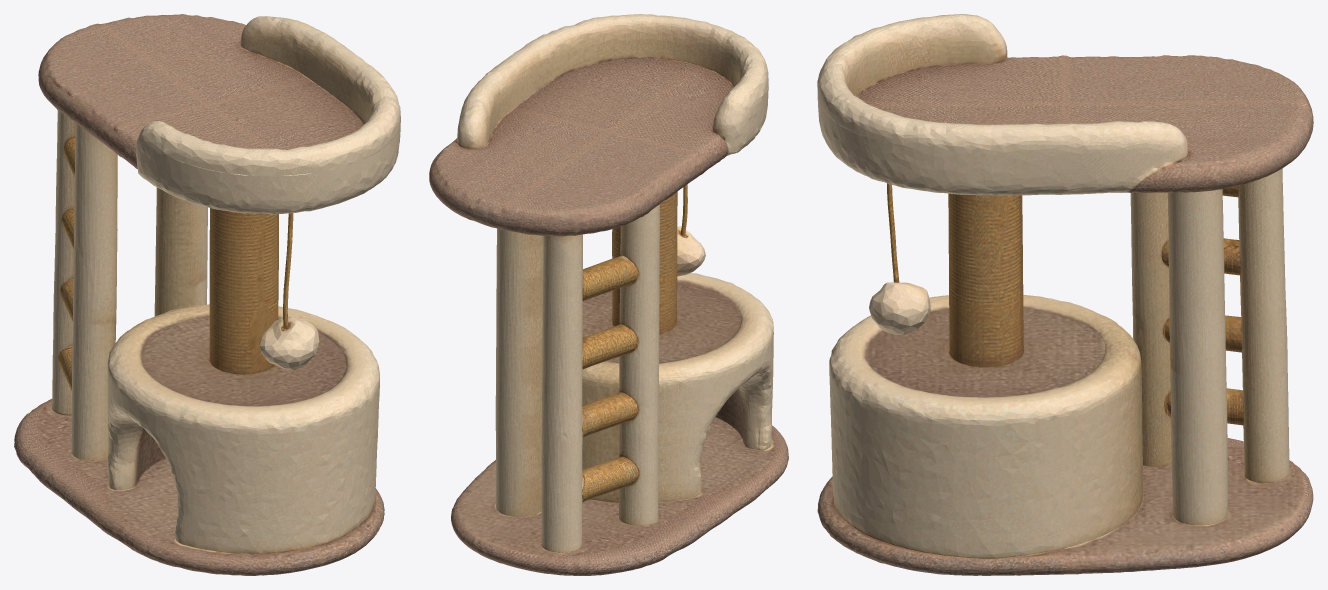
File: DOM_kotik_2__base.glb
3 renders of one model, left to right at view 1: azimuth 30°, elevation 25°; view 2: azimuth 150°, elevation 25°; view 3: azimuth 270°, elevation 25°, orthographic. The views are drawn at different scales.
Parts seen in each view (by area): view 1: tripo_node_73182a43-ffd4-43b6-8ebc-97913f1d0b92; view 2: tripo_node_73182a43-ffd4-43b6-8ebc-97913f1d0b92; view 3: tripo_node_73182a43-ffd4-43b6-8ebc-97913f1d0b92.
Part boxes in pixels (x1=…): tripo_node_73182a43-ffd4-43b6-8ebc-97913f1d0b92: x1=14, y1=14, x2=400, y2=575; tripo_node_73182a43-ffd4-43b6-8ebc-97913f1d0b92: x1=429, y1=14, x2=788, y2=575; tripo_node_73182a43-ffd4-43b6-8ebc-97913f1d0b92: x1=817, y1=14, x2=1313, y2=575.
Size of the model in its own units: 0.6403 by 0.9799 by 0.9629.
Materials: 1 (1 with a texture image).
